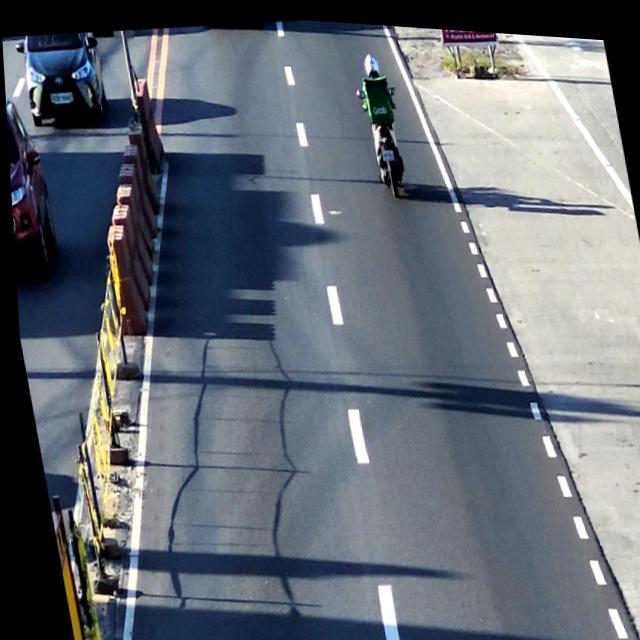License-Plate: (380, 145, 394, 156)
Motorcycle: (357, 47, 411, 194)
